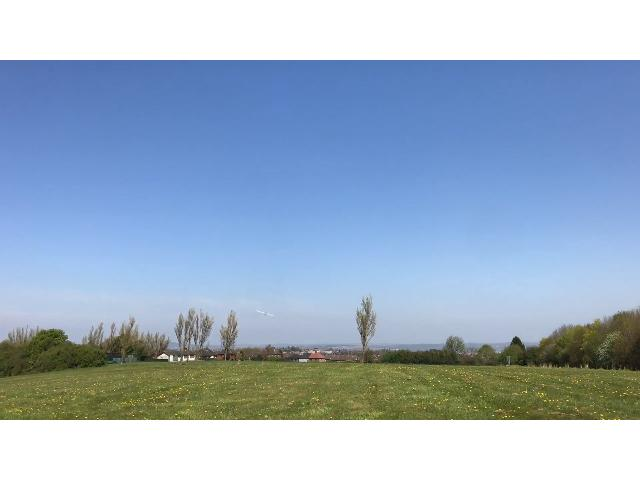Anti-Drone: (252, 298, 280, 326)
